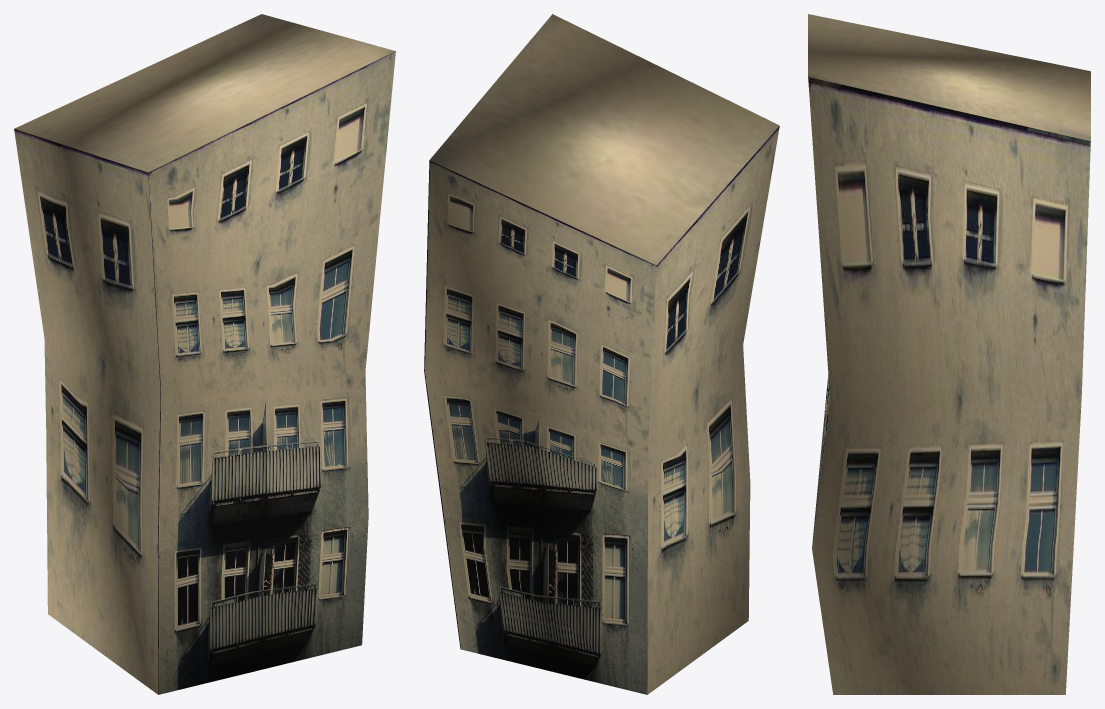
The model's file is apartments_four.fbx.
3 views of the same model, side by side, from view 1: azimuth 30°, elevation 25°; view 2: azimuth 150°, elevation 25°; view 3: azimuth 270°, elevation 25° (orthographic). The views are drawn at different scales.
Parts seen in each view (by area): view 1: Apartment2.001; view 2: Apartment2.001; view 3: Apartment2.001.
Boxes of the visible parts, x1,y1,x2,y2 form: Apartment2.001: (14,14,395,694); Apartment2.001: (424,14,779,694); Apartment2.001: (808,14,1090,694).
Size of the model in its own units: 1314 by 2912 by 1186.
Materials: 1 (1 with a texture image).
